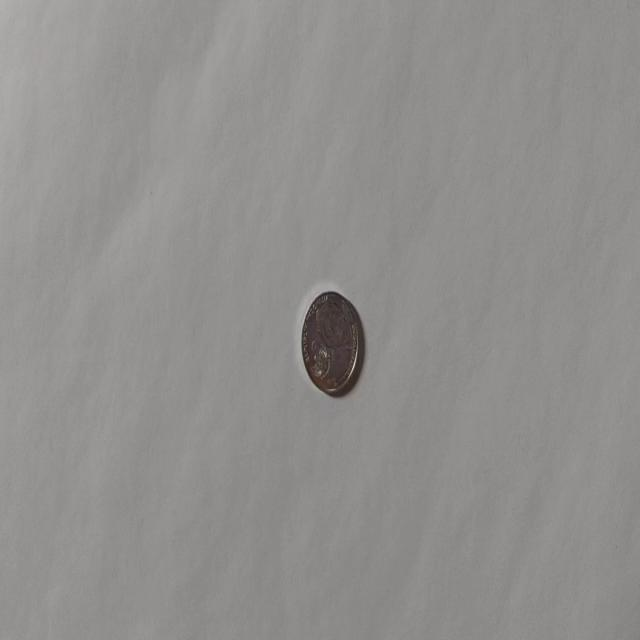dua ratus rupiah: (300, 288, 360, 396)
